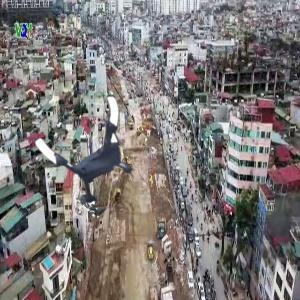drone: (47, 99, 148, 200)
